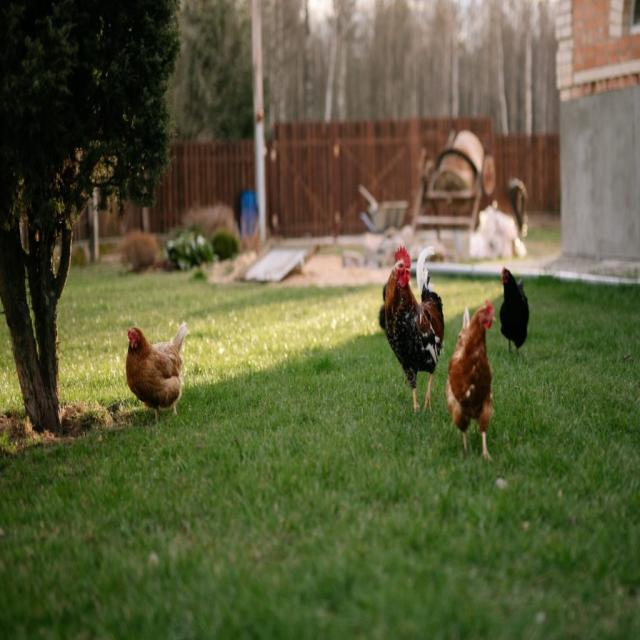chicken: (366, 222, 445, 438), (448, 303, 506, 469), (379, 250, 446, 389), (122, 310, 197, 428), (448, 301, 497, 442), (126, 322, 191, 409), (496, 248, 538, 362), (501, 267, 531, 350)
